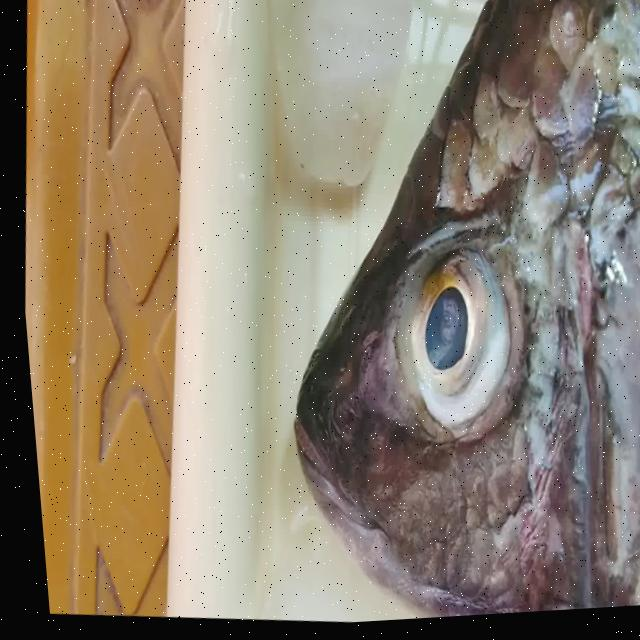Fresh: (373, 214, 534, 463)
